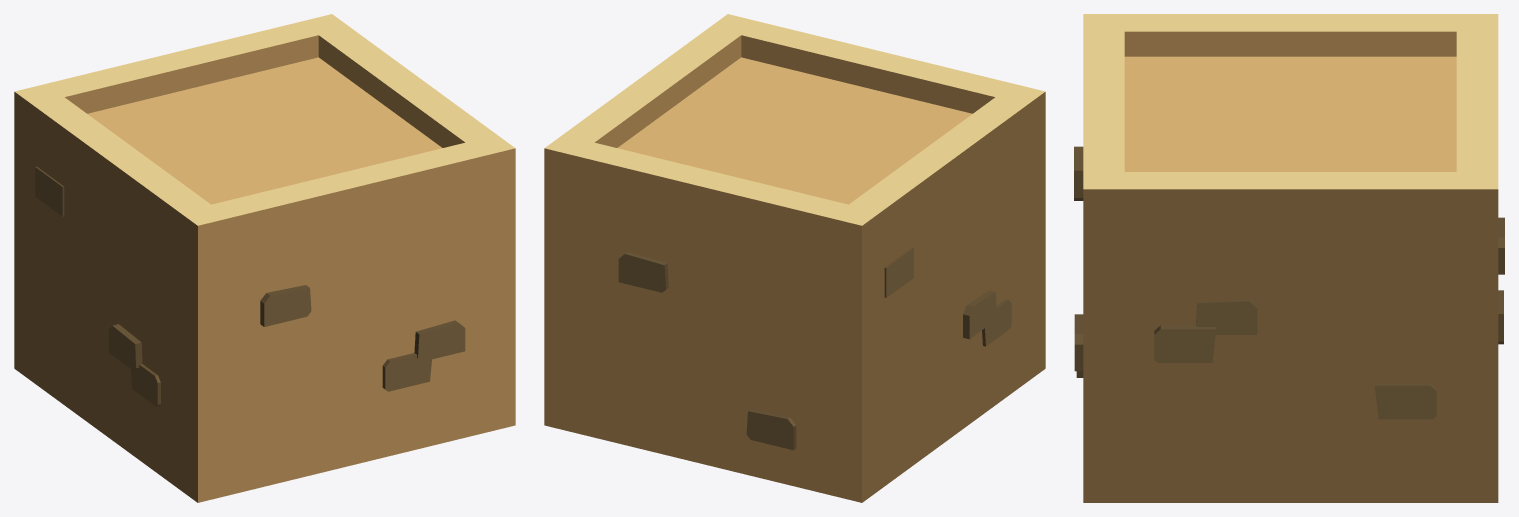
File: TB_D_Bd_Body_Small_Yel.FBX
3 renders of one model, left to right at view 1: azimuth 30°, elevation 25°; view 2: azimuth 150°, elevation 25°; view 3: azimuth 270°, elevation 25°, orthographic. The views are drawn at different scales.
Visible parts, largest first — view 1: TB_D_Bd_Body_Small_Yel; view 2: TB_D_Bd_Body_Small_Yel; view 3: TB_D_Bd_Body_Small_Yel.
Part boxes in pixels (box(x1,y1,x2,y2)): TB_D_Bd_Body_Small_Yel: box(14, 14, 515, 502); TB_D_Bd_Body_Small_Yel: box(544, 14, 1045, 502); TB_D_Bd_Body_Small_Yel: box(1074, 14, 1504, 502).
Size of the model in its own units: 3.13 by 2.5 by 3.11.
